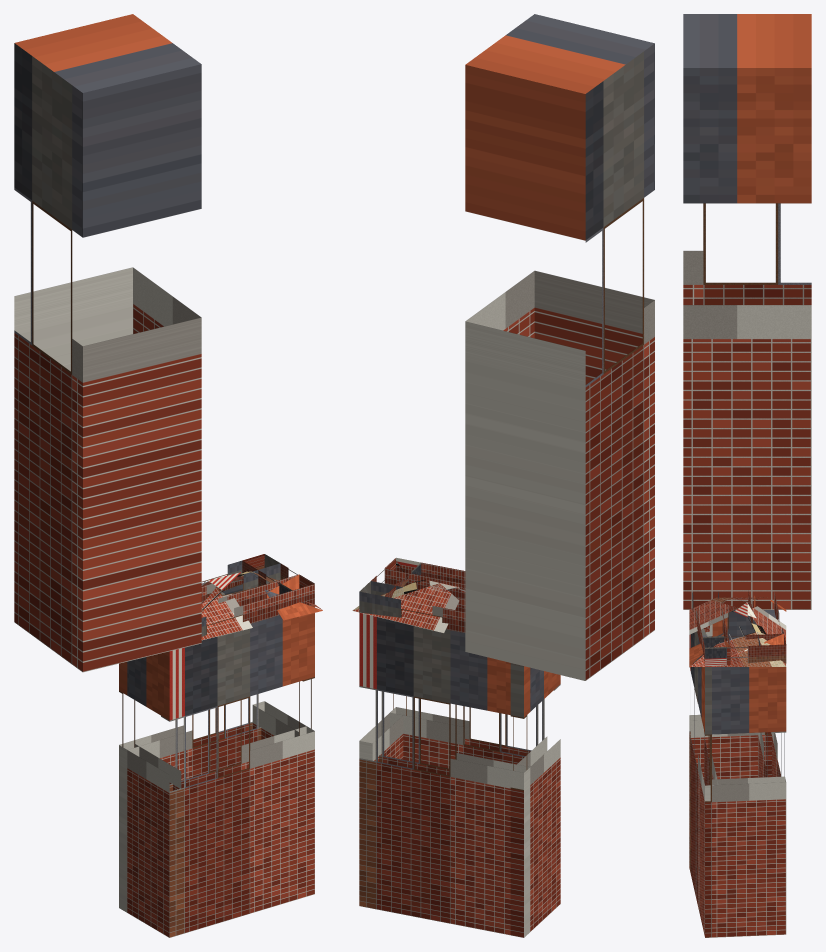
3 views of the same model, side by side, from view 1: azimuth 30°, elevation 25°; view 2: azimuth 150°, elevation 25°; view 3: azimuth 270°, elevation 25° (orthographic). The views are drawn at different scales.
Visible parts, largest first — view 1: 238625179__chimney_0_xb, 238625179__wall_2_xb, 238625179__wall_1_xb, 238625179__wall_0_xb, 238625179__cornice_2, 238625179_roof_front_xb, 238625179__wall_3_xb, 238625179__cornice_0, 238625179__cornice_3; view 2: 238625179__chimney_0_xb, 238625179__wall_0_xb, 238625179__wall_1_xb, 238625179__wall_2_xb, 238625179_roof_back_xb, 238625179__cornice_0, 238625179__cornice_2, 238625179__wall_3_xb; view 3: 238625179__chimney_0_xb, 238625179__wall_3_xb, 238625179__wall_1_xb, 238625179__wall_2_xb, 238625179__cornice_3, 238625179_roof_right_xb, 238625179_roof_front_xb, 238625179__wall_0_xb, 238625179_roof_back_xb, 238625179__cornice_2.
Boxes of the visible parts, <box> form: 238625179__chimney_0_xb: <box>14,14,201,672</box>; 238625179__wall_2_xb: <box>161,605,314,937</box>; 238625179__wall_1_xb: <box>119,651,181,937</box>; 238625179__wall_0_xb: <box>119,583,261,912</box>; 238625179__cornice_2: <box>201,574,314,636</box>; 238625179_roof_front_xb: <box>201,587,322,640</box>; 238625179__wall_3_xb: <box>252,677,314,739</box>; 238625179__cornice_0: <box>201,554,280,603</box>; 238625179__cornice_3: <box>242,554,297,594</box>; 238625179__chimney_0_xb: <box>465,14,654,680</box>; 238625179__wall_0_xb: <box>359,612,530,937</box>; 238625179__wall_1_xb: <box>510,663,560,937</box>; 238625179__wall_2_xb: <box>390,684,560,768</box>; 238625179_roof_back_xb: <box>352,583,459,632</box>; 238625179__cornice_0: <box>359,581,465,632</box>; 238625179__cornice_2: <box>384,558,465,598</box>; 238625179__wall_3_xb: <box>359,693,406,761</box>; 238625179__chimney_0_xb: <box>683,14,811,609</box>; 238625179__wall_3_xb: <box>704,667,786,937</box>; 238625179__wall_1_xb: <box>689,610,771,780</box>; 238625179__wall_2_xb: <box>689,628,718,936</box>; 238625179__cornice_3: <box>702,633,786,666</box>; 238625179_roof_right_xb: <box>690,603,785,666</box>; 238625179_roof_front_xb: <box>689,600,738,666</box>; 238625179__wall_0_xb: <box>758,610,786,777</box>; 238625179_roof_back_xb: <box>751,600,786,666</box>; 238625179__cornice_2: <box>692,591,730,664</box>.
Size of the model in its own units: 0.3084 by 1.05 by 0.15.
Materials: 1 (1 with a texture image).
